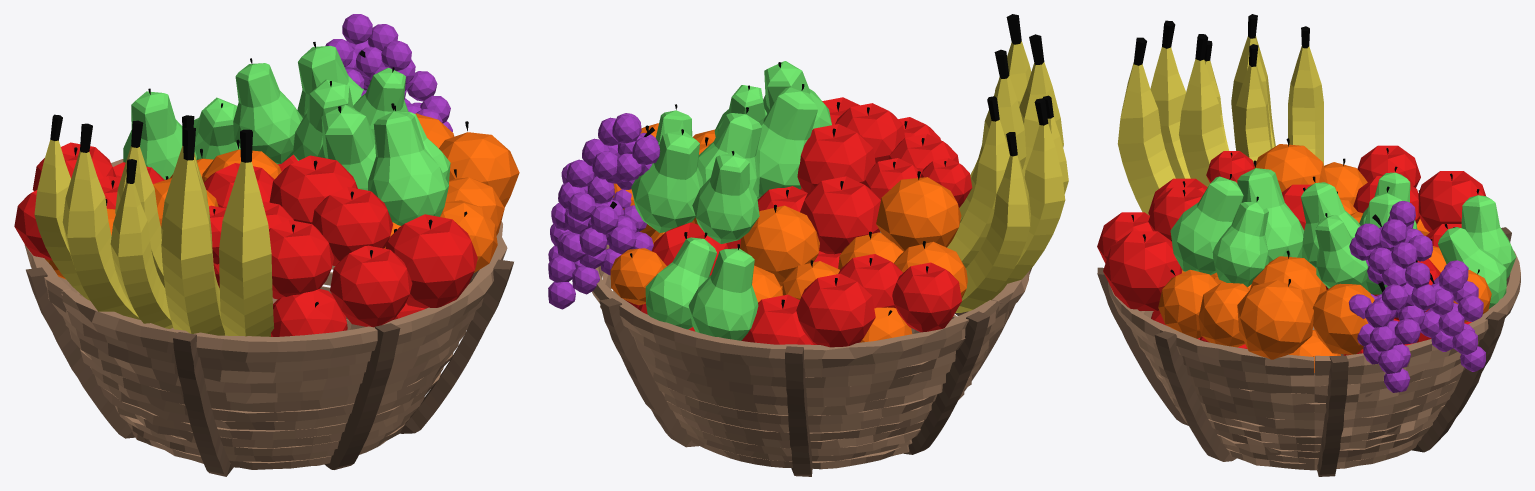
The model's file is Cesta de furtas.fbx.
3 renders of one model, left to right at view 1: azimuth 30°, elevation 25°; view 2: azimuth 150°, elevation 25°; view 3: azimuth 270°, elevation 25°, orthographic. The views are drawn at different scales.
Visible parts, largest first — view 1: cesta de frutas; view 2: cesta de frutas; view 3: cesta de frutas.
Part boxes in pixels (left/top/right/bottom): cesta de frutas: left=14, top=14, right=519, bottom=476; cesta de frutas: left=548, top=14, right=1068, bottom=476; cesta de frutas: left=1097, top=14, right=1520, bottom=476.
Size of the model in its own units: 596 by 471 by 543.
